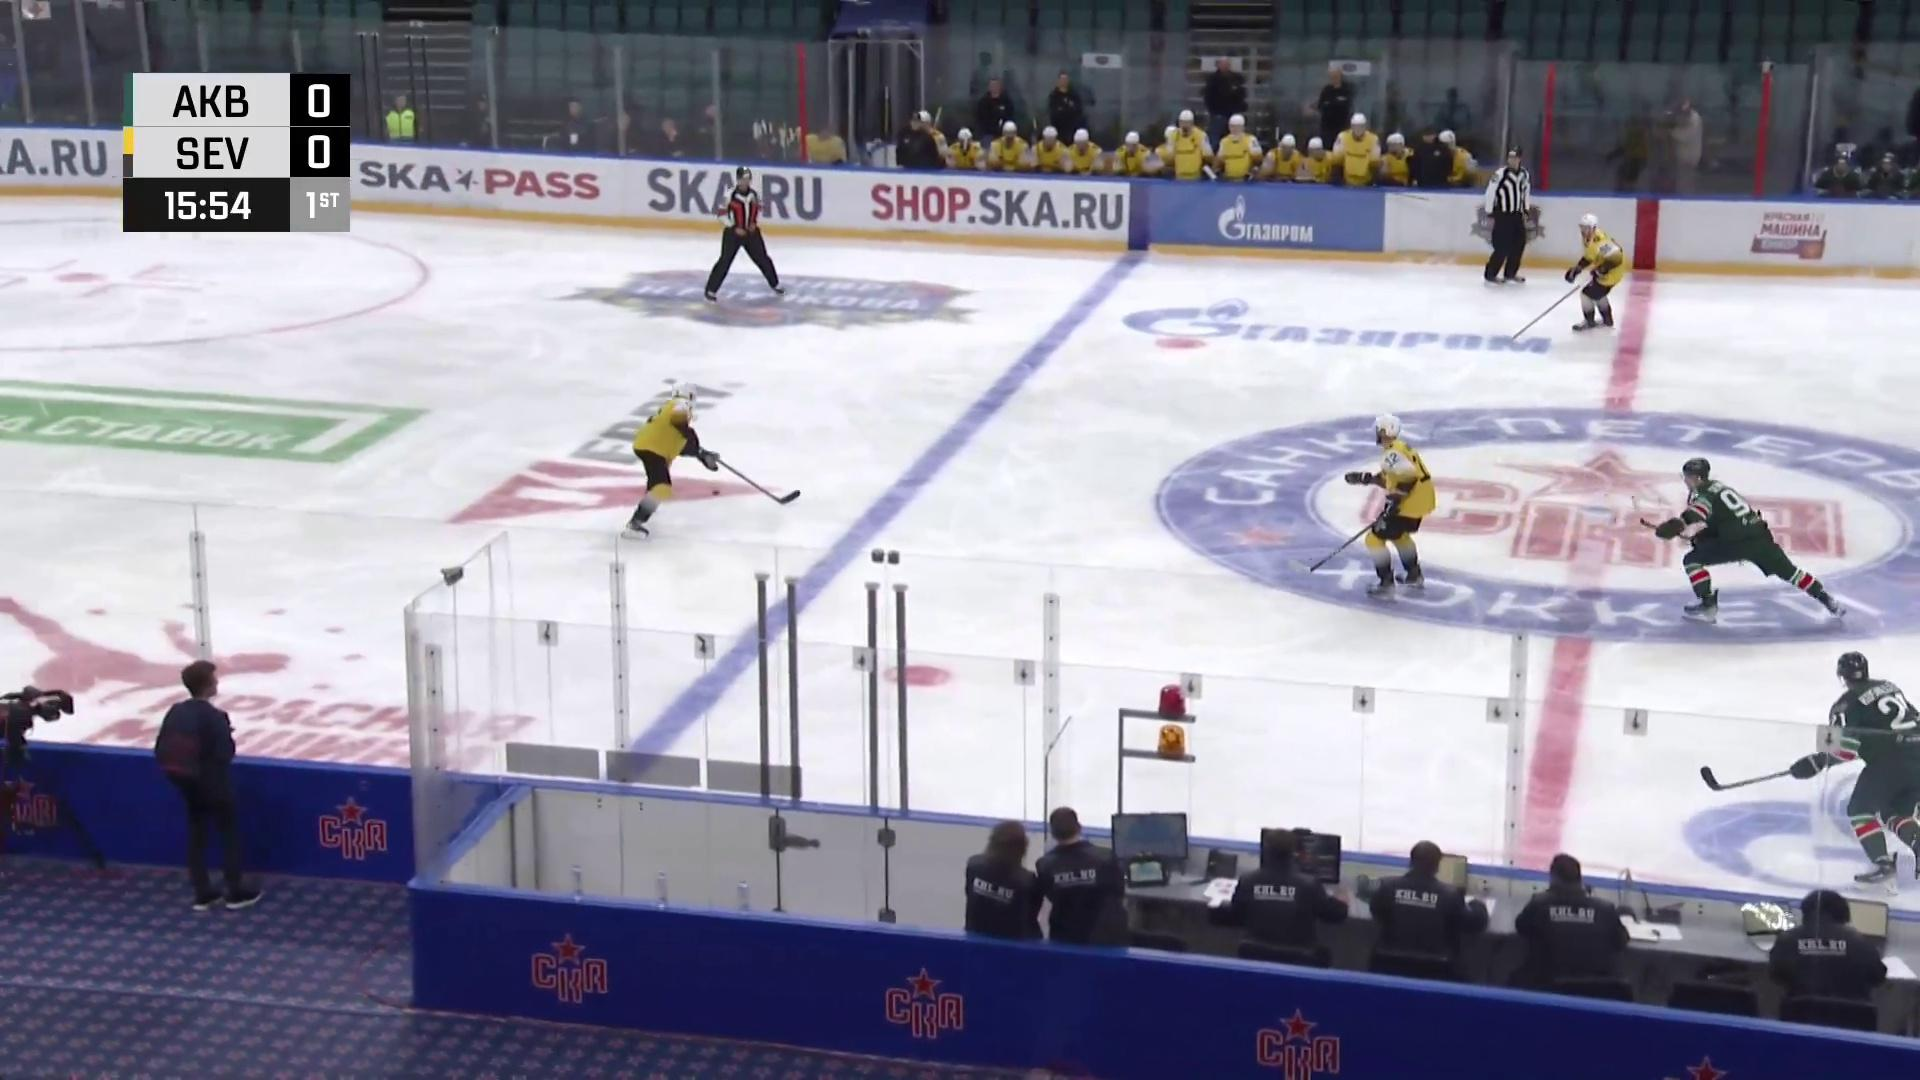ball: (711, 489, 721, 497)
